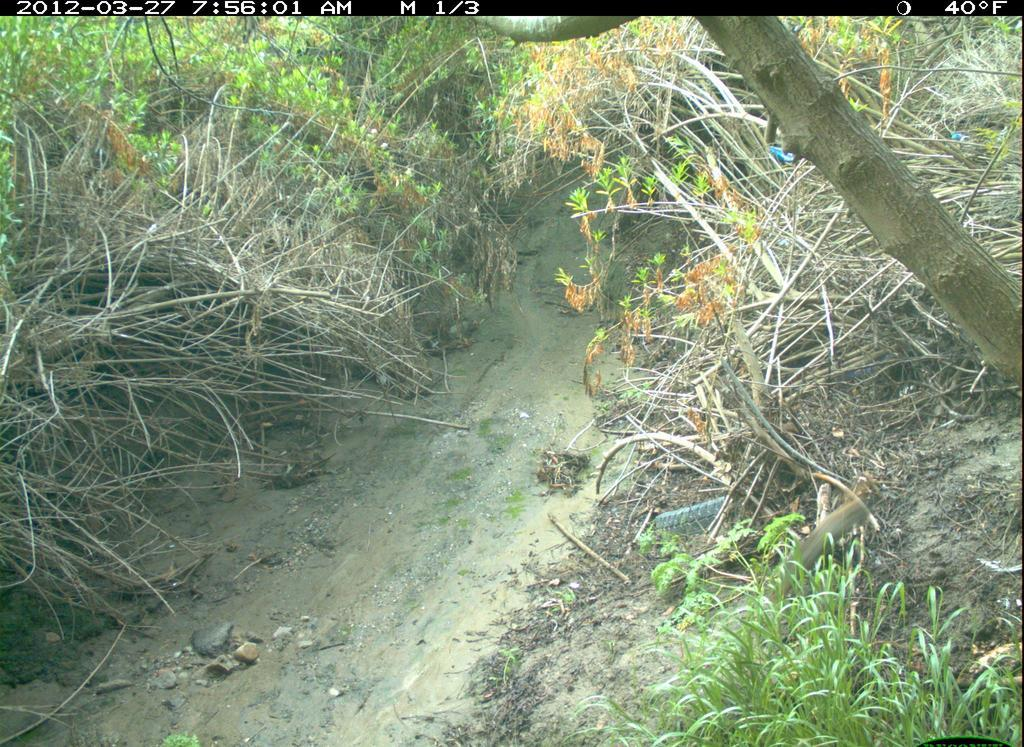squirrel: (759, 475, 886, 598)
